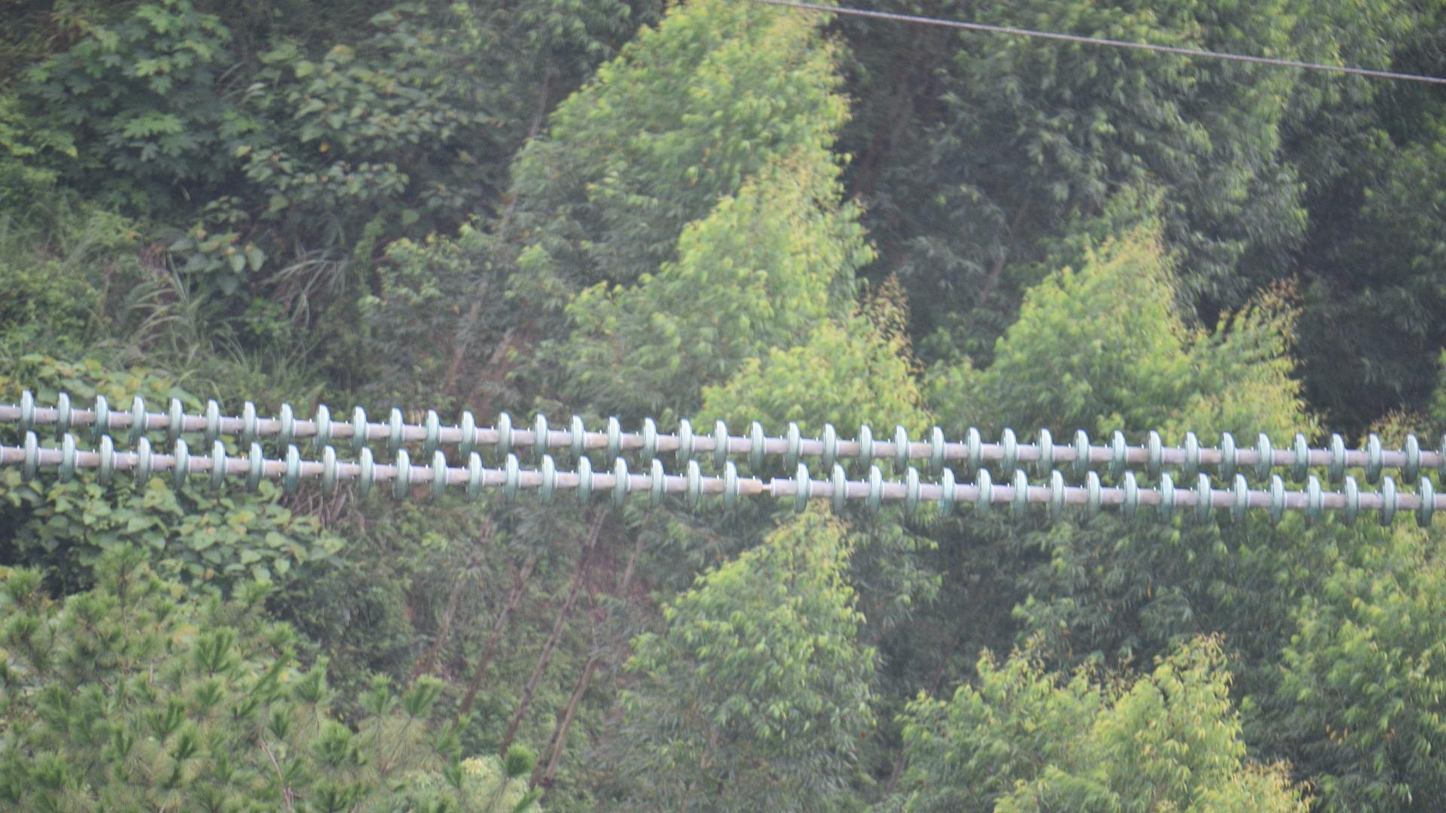insulator: (1, 382, 1446, 534)
